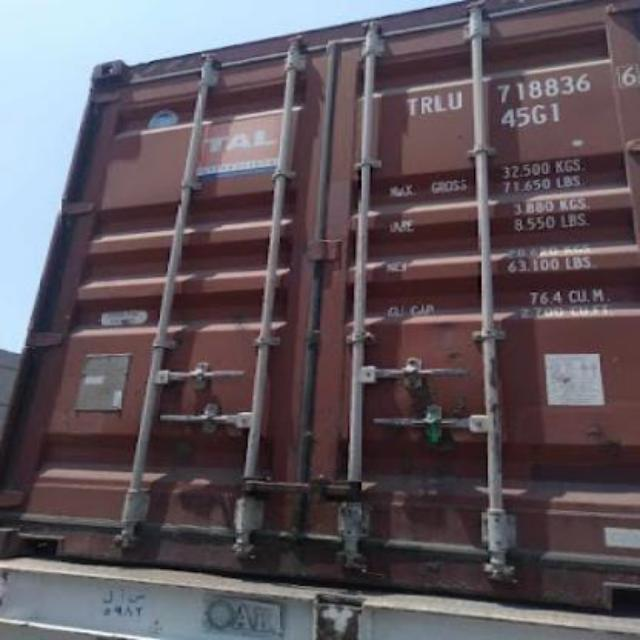1: (514, 81, 526, 102)
3: (560, 76, 576, 96)
6: (616, 64, 640, 88), (574, 73, 592, 94)
7: (496, 84, 512, 102)
8: (545, 76, 559, 98), (528, 80, 544, 98)
L: (432, 94, 448, 112)
R: (420, 96, 434, 115)
T: (406, 98, 420, 114)
U: (448, 90, 464, 112)
